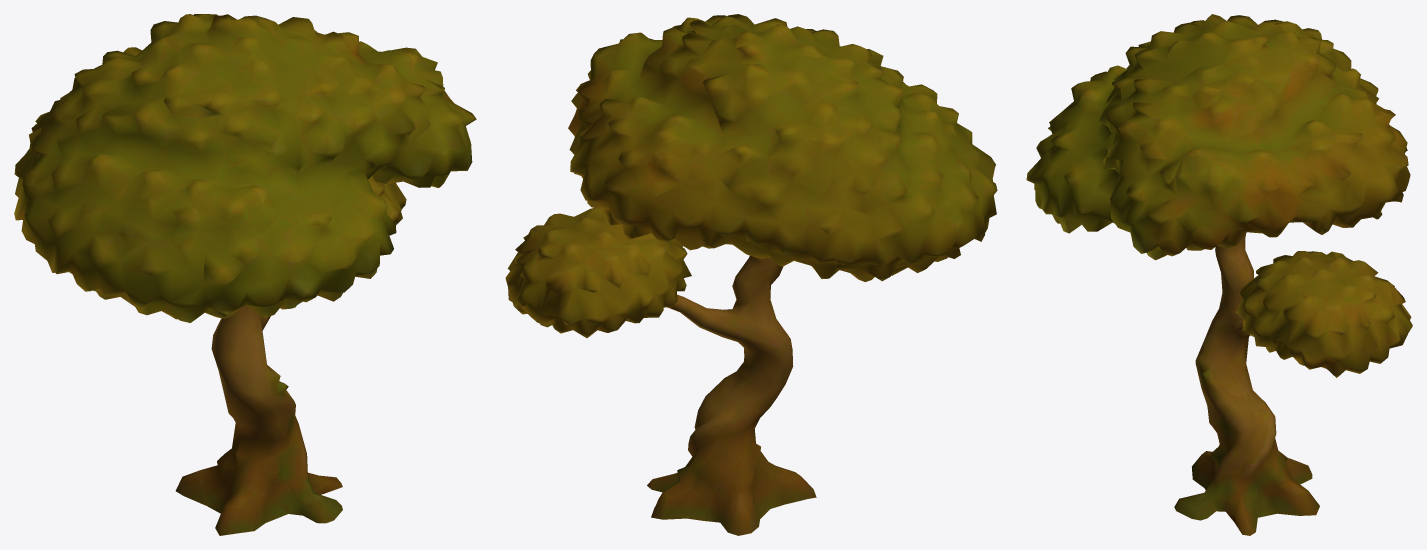
The model's file is oak_4.glb.
3 renders of one model, left to right at view 1: azimuth 30°, elevation 25°; view 2: azimuth 150°, elevation 25°; view 3: azimuth 270°, elevation 25°, orthographic. The views are drawn at different scales.
Visible parts, largest first — view 1: tripo_node_6890de78-82ac-4826-9d7e-c07e43276152; view 2: tripo_node_6890de78-82ac-4826-9d7e-c07e43276152; view 3: tripo_node_6890de78-82ac-4826-9d7e-c07e43276152.
Boxes of the visible parts, bbox=[...] form: tripo_node_6890de78-82ac-4826-9d7e-c07e43276152: bbox=[14, 14, 476, 535]; tripo_node_6890de78-82ac-4826-9d7e-c07e43276152: bbox=[505, 14, 997, 535]; tripo_node_6890de78-82ac-4826-9d7e-c07e43276152: bbox=[1026, 14, 1412, 535].
Bounding box in the file's own units: 8.33 × 9.4 × 7.3.
1 material, 1 textured.
